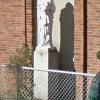Statue: (28, 1, 62, 58)
